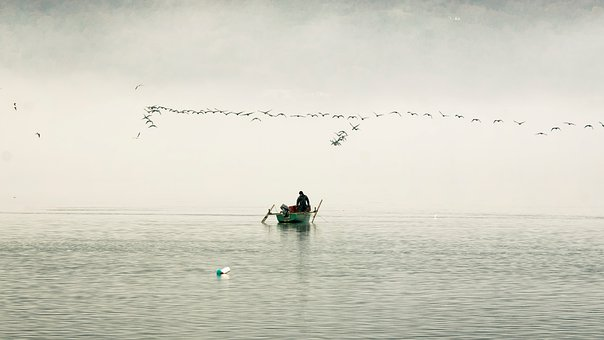sea: (1, 207, 604, 338)
sky: (1, 2, 604, 203)
